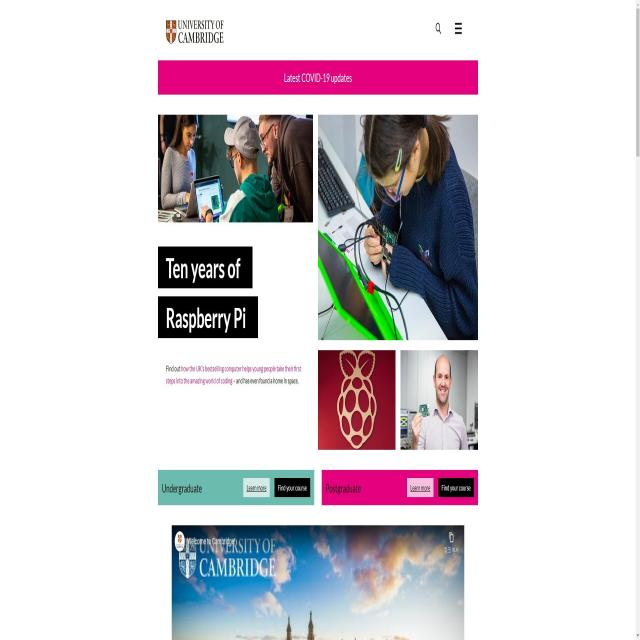button: (158, 58, 478, 96), (438, 477, 474, 498), (275, 477, 310, 498), (243, 475, 269, 497), (407, 478, 433, 497)
